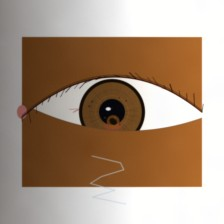foreign_body_visible: (93, 105, 133, 138)
